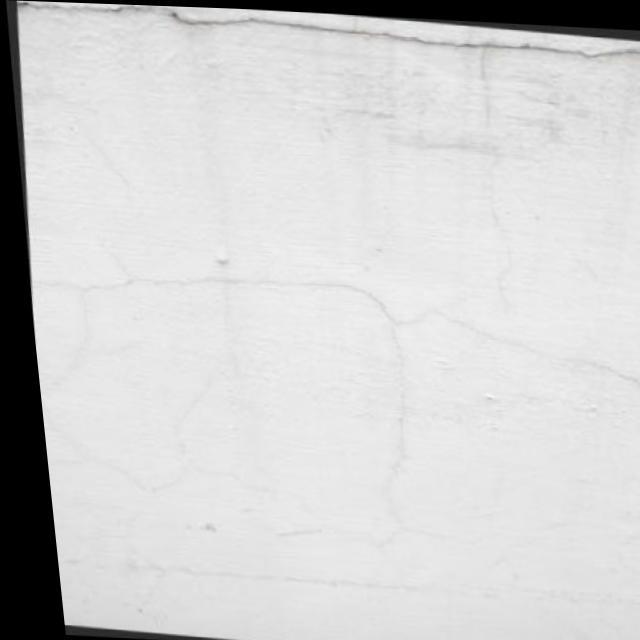Crack: (67, 180, 598, 449)
